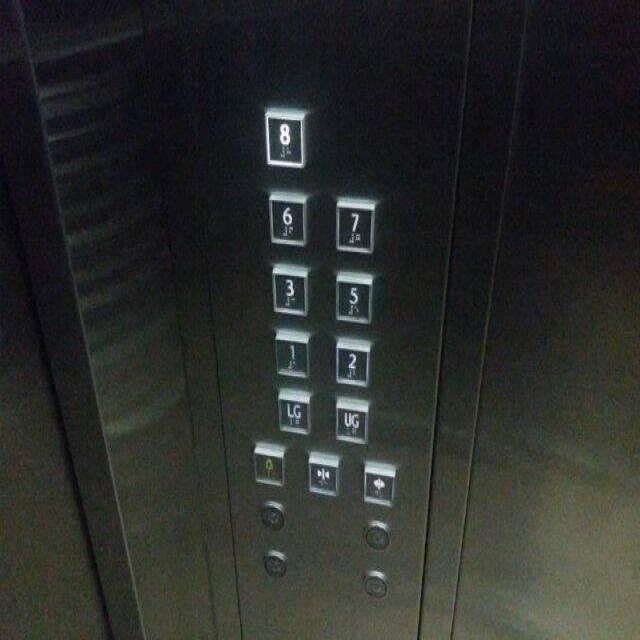1: (272, 327, 313, 380)
2: (332, 335, 373, 389)
3: (269, 259, 311, 316)
5: (332, 266, 376, 326)
6: (267, 186, 313, 246)
7: (332, 193, 378, 255)
8: (263, 104, 312, 168)
LG: (276, 384, 313, 436)
UG: (333, 395, 369, 445)
alarm: (250, 438, 288, 486)
close: (305, 449, 342, 495)
keyhole: (361, 515, 392, 552), (359, 565, 389, 599), (259, 496, 286, 533), (262, 546, 291, 578)
open: (361, 456, 397, 508)
